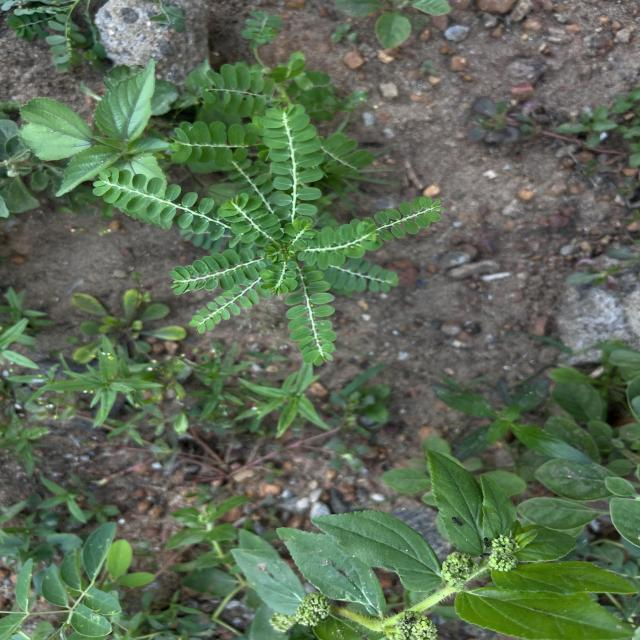Phyllanthus niruri: (87, 166, 227, 240), (260, 102, 328, 220), (281, 268, 340, 368), (166, 246, 265, 298), (292, 218, 380, 272), (212, 192, 288, 246), (187, 284, 260, 336), (372, 194, 449, 242)
